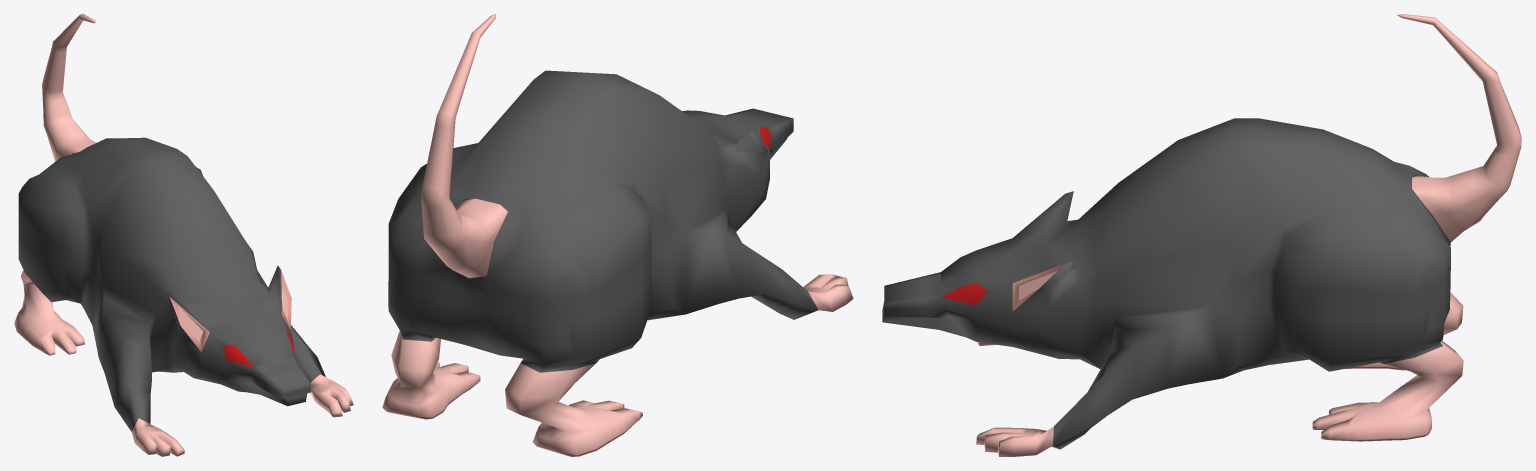
Rendered from rata.obj.
3 renders of one model, left to right at view 1: azimuth 30°, elevation 25°; view 2: azimuth 150°, elevation 25°; view 3: azimuth 270°, elevation 25°, orthographic. The views are drawn at different scales.
Visible parts, largest first — view 1: Giant_Rat; view 2: Giant_Rat; view 3: Giant_Rat.
Part boxes in pixels (x1,y1,x2,y2): Giant_Rat: (14,14,353,456); Giant_Rat: (382,14,853,456); Giant_Rat: (882,14,1521,456).
Bounding box in the file's own units: 1.15 × 1.59 × 2.41.
